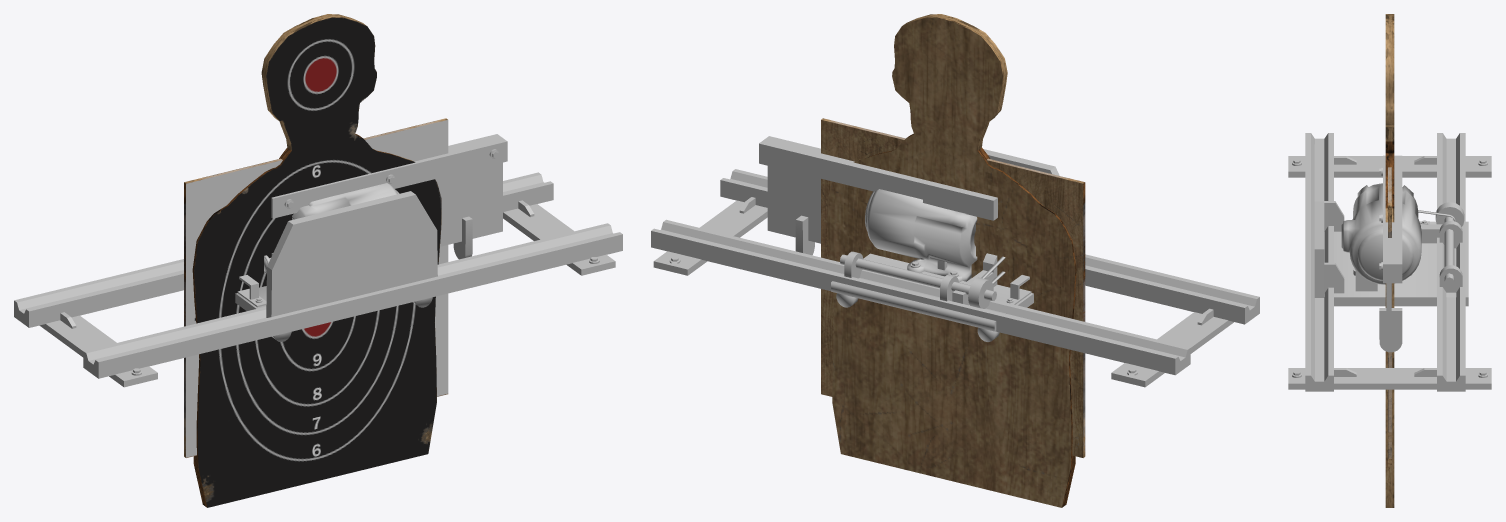
The model's file is Targets.fbx.
3 views of the same model, side by side, from view 1: azimuth 30°, elevation 25°; view 2: azimuth 150°, elevation 25°; view 3: azimuth 270°, elevation 25° (orthographic). The views are drawn at different scales.
Visible parts, largest first — view 1: SM_target1_LOD0, SM_Rail_LOD0, SM_Cart_LOD0, SM_TargetHolder_LOD0, SM_Target2_LOD0; view 2: SM_target1_LOD0, SM_Rail_LOD0, SM_Cart_LOD0, SM_TargetHolder_LOD0, SM_Target2_LOD0; view 3: SM_Rail_LOD0, SM_Cart_LOD0, SM_TargetHolder_LOD0, SM_target1_LOD0, SM_Target2_LOD0.
Boxes of the visible parts, box(x1,y1,x2,y2) form: SM_target1_LOD0: box(192, 14, 441, 507); SM_Rail_LOD0: box(14, 172, 622, 387); SM_Cart_LOD0: box(235, 183, 437, 342); SM_TargetHolder_LOD0: box(271, 134, 507, 259); SM_Target2_LOD0: box(184, 118, 448, 457); SM_target1_LOD0: box(827, 14, 1076, 507); SM_Rail_LOD0: box(651, 169, 1259, 387); SM_Cart_LOD0: box(831, 149, 1059, 341); SM_TargetHolder_LOD0: box(759, 136, 997, 270); SM_Target2_LOD0: box(821, 118, 1085, 457); SM_Rail_LOD0: box(1288, 133, 1491, 391); SM_Cart_LOD0: box(1314, 144, 1468, 306); SM_TargetHolder_LOD0: box(1379, 155, 1402, 352); SM_target1_LOD0: box(1385, 14, 1394, 507); SM_Target2_LOD0: box(1388, 167, 1391, 466).
Size of what is drawn, in the model's own units: 200 by 168 by 70.85.
